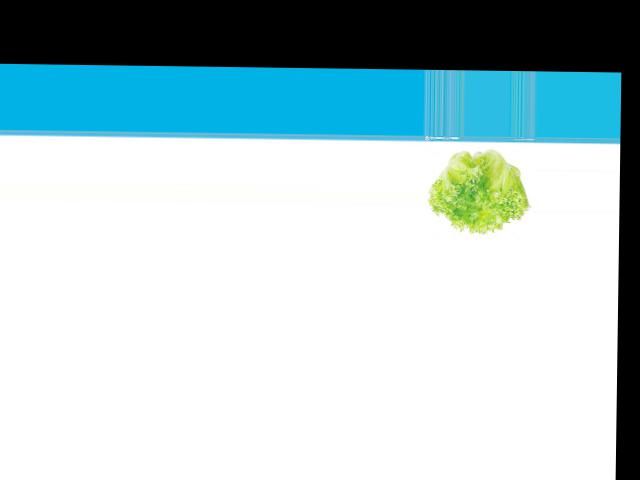lettuce: (427, 142, 527, 237)
